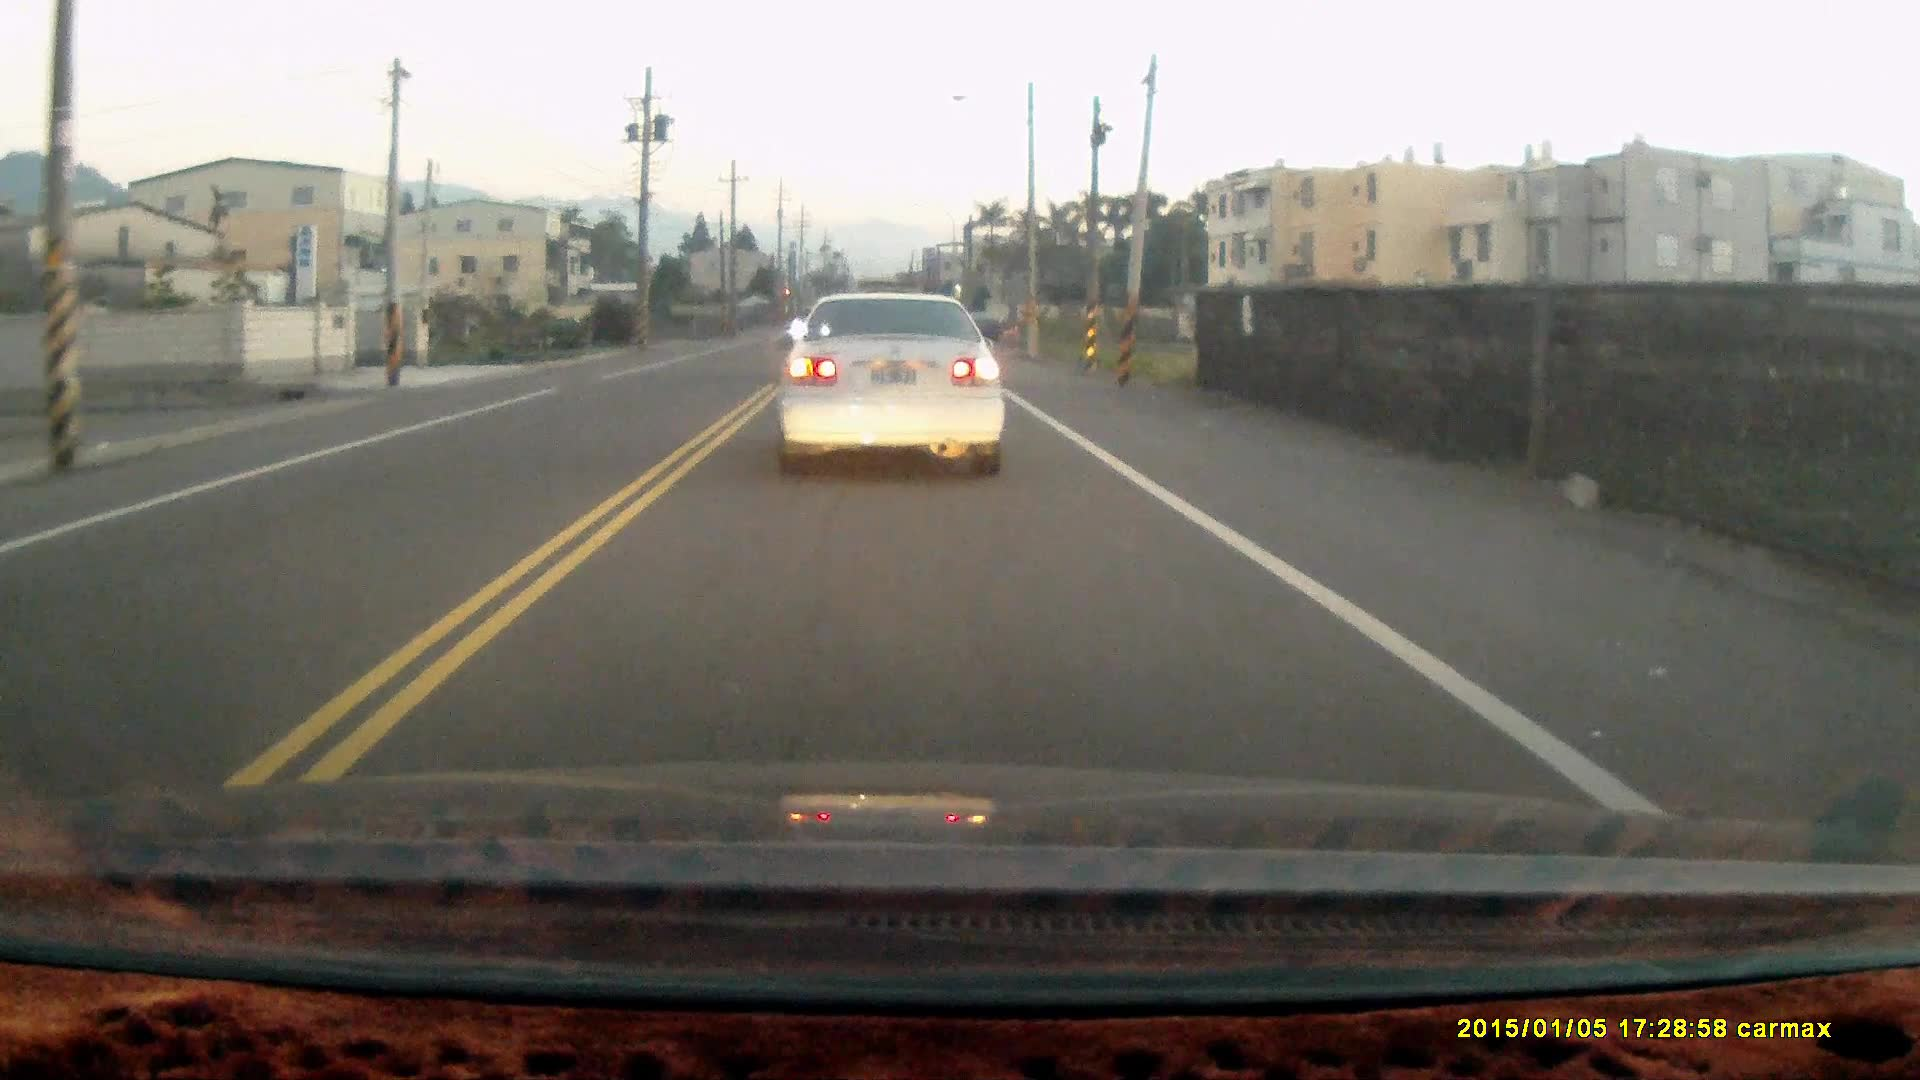vehicle: (773, 284, 1011, 473)
